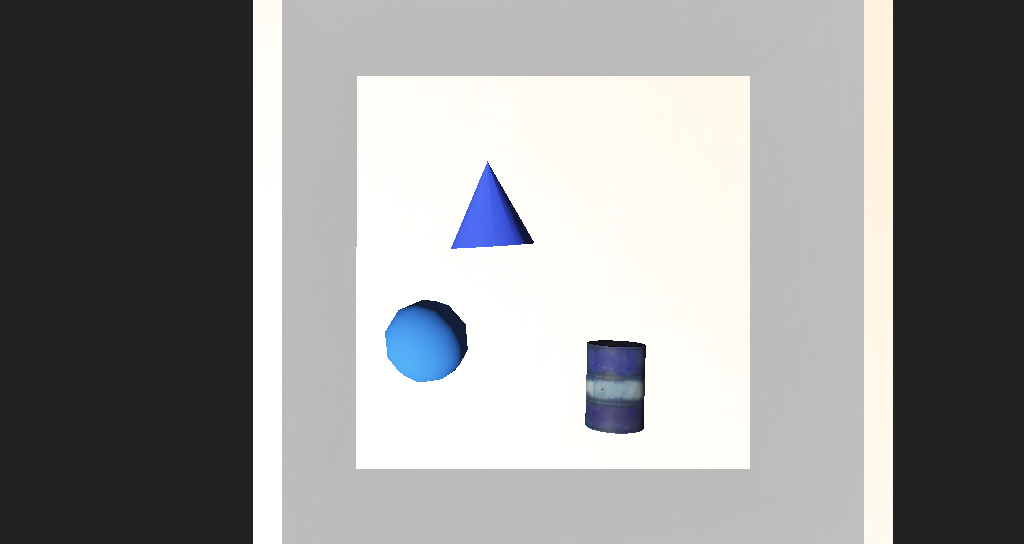cone: (525, 305, 579, 353)
cylinder: (421, 200, 495, 258)
sphere: (381, 284, 441, 327)
